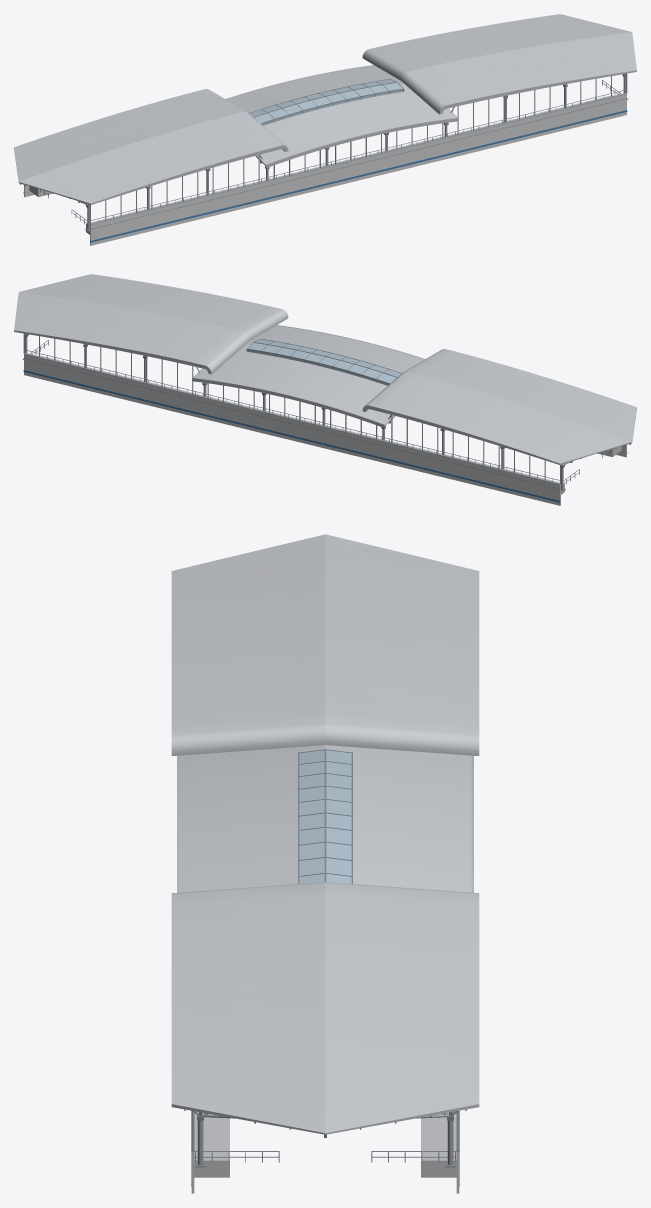
3 views of the same model, one above another, from view 1: azimuth 30°, elevation 25°; view 2: azimuth 150°, elevation 25°; view 3: azimuth 270°, elevation 25° (orthographic). The views are drawn at different scales.
Visible parts, largest first — view 1: BL02; view 2: BL02; view 3: BL02.
Boxes of the visible parts, <box> form: BL02: <box>14,14,636,245</box>; BL02: <box>14,274,636,505</box>; BL02: <box>171,534,479,1193</box>.
Bounding box in the file's own units: 127 × 12.7 × 27.6.
